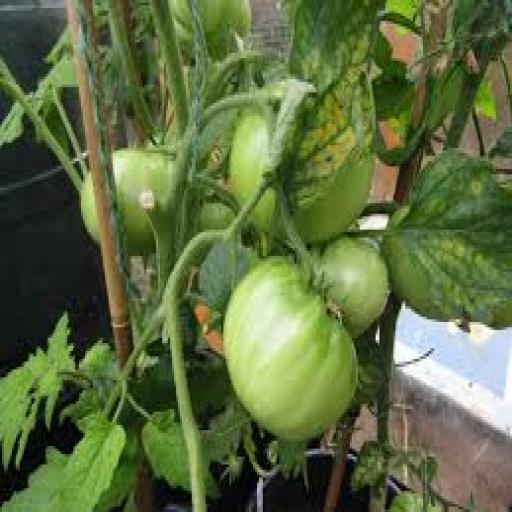tomato: (224, 256, 357, 440), (293, 154, 373, 242), (295, 154, 373, 242), (321, 238, 389, 337), (113, 148, 173, 255), (228, 111, 270, 205), (198, 0, 251, 58), (200, 201, 235, 232), (390, 491, 425, 511)
